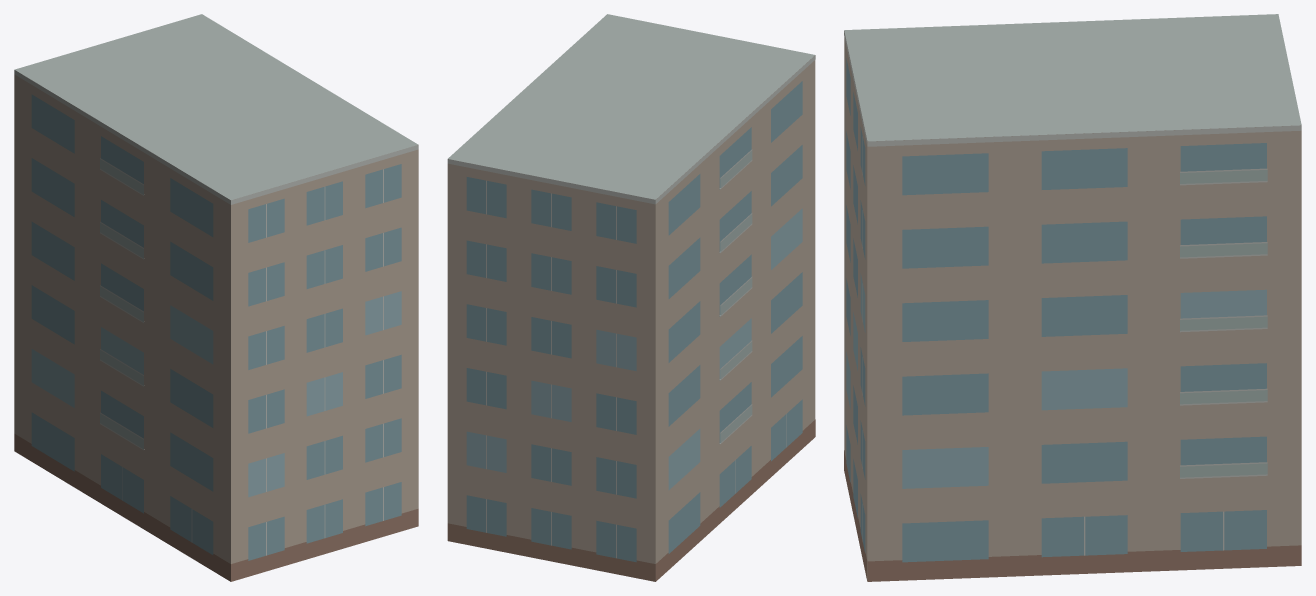
The model's file is survey-upis-32974582.glb.
3 views of the same model, side by side, from view 1: azimuth 30°, elevation 25°; view 2: azimuth 150°, elevation 25°; view 3: azimuth 270°, elevation 25° (orthographic). The views are drawn at different scales.
Parts seen in each view (by area): view 1: survey-upis-32974582.tmp; view 2: survey-upis-32974582.tmp; view 3: survey-upis-32974582.tmp.
Boxes of the visible parts, x1=… form: survey-upis-32974582.tmp: x1=14, y1=14, x2=418, y2=581; survey-upis-32974582.tmp: x1=447, y1=14, x2=815, y2=581; survey-upis-32974582.tmp: x1=844, y1=14, x2=1301, y2=581.
Size of the model in its own units: 12.39 by 19.95 by 18.79.
